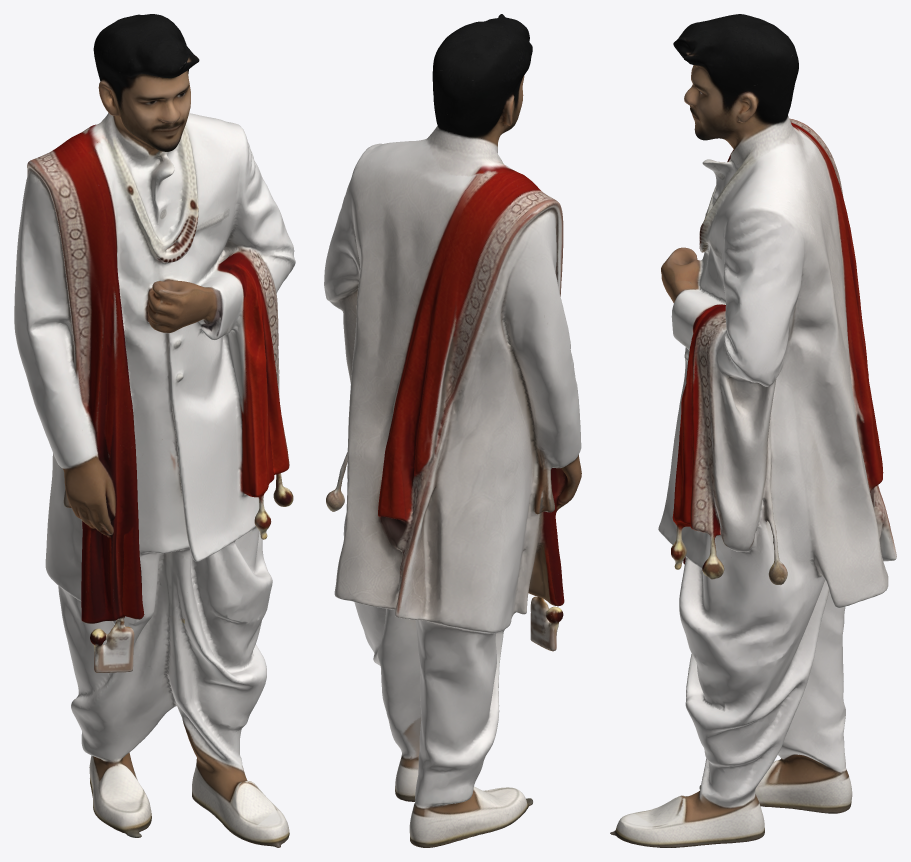
File: akhil-textured.glb
The picture shows the model from 3 angles, left to right: view 1: azimuth 30°, elevation 25°; view 2: azimuth 150°, elevation 25°; view 3: azimuth 270°, elevation 25°; orthographic projection. The views are drawn at different scales.
Size of the model in its own units: 0.638 by 1.9 by 0.6311.
1 material, 1 textured.
